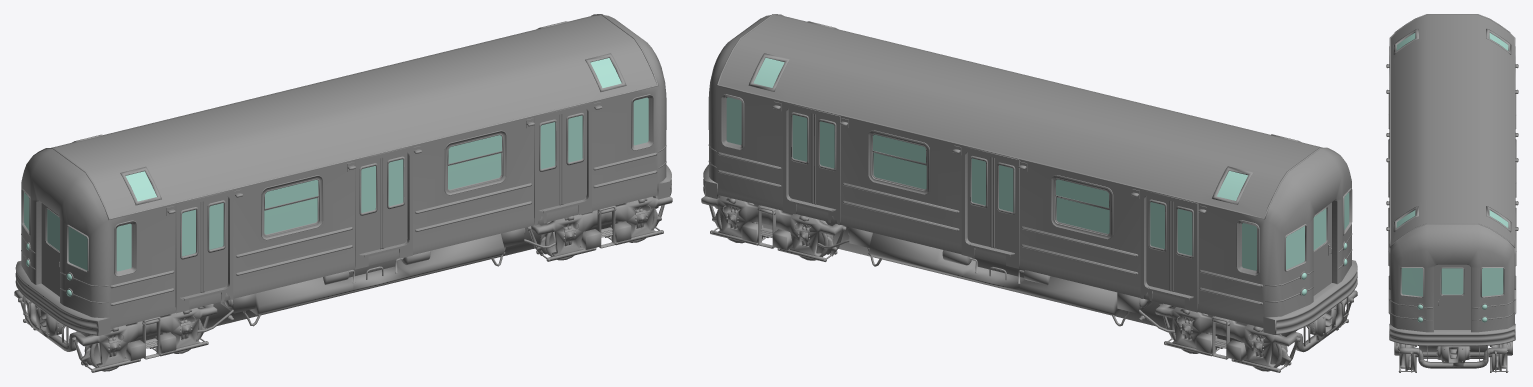
Rendered from Subway_train_car.FBX.
3 renders of one model, left to right at view 1: azimuth 30°, elevation 25°; view 2: azimuth 150°, elevation 25°; view 3: azimuth 270°, elevation 25°, orthographic. The views are drawn at different scales.
Visible parts, largest first — view 1: late_traincar_outer_side, lower_traincar_platform, Glass_Train_Car, Side_sliding_door_right_traincar_2, Side_sliding_door_right_traincar_1, Side_sliding_door_right_traincar, Side_sliding_door_left_traincar, Side_sliding_door_left_traincar_1, Side_sliding_door_left_traincar_2, Front_door_traincar, Glass_3, Glass_4 (+6 smaller); view 2: late_traincar_outer_side, lower_traincar_platform, Glass_Train_Car, Side_sliding_door_left_traincar_3, Side_sliding_door_left_traincar_4, Side_sliding_door_left_traincar_5, Side_sliding_door_right_traincar_4, Side_sliding_door_right_traincar_5, Side_sliding_door_right_traincar_3, Front_door_traincar, Glass_6, Glass_5 (+6 smaller); view 3: late_traincar_outer_side, lower_traincar_platform, Backdoor_traincar, Glass_Train_Car, Glass_2.
Part boxes in pixels (x1,y1,x2,y2): late_traincar_outer_side: [15, 14, 671, 335]; lower_traincar_platform: [14, 196, 672, 372]; Glass_Train_Car: [24, 58, 648, 296]; Side_sliding_door_right_traincar_2: [561, 108, 586, 204]; Side_sliding_door_right_traincar_1: [382, 152, 407, 248]; Side_sliding_door_right_traincar: [203, 196, 227, 292]; Side_sliding_door_left_traincar: [179, 201, 202, 297]; Side_sliding_door_left_traincar_1: [359, 158, 382, 253]; Side_sliding_door_left_traincar_2: [538, 114, 561, 210]; Front_door_traincar: [41, 203, 59, 296]; Glass_3: [265, 180, 318, 208]; Glass_4: [448, 135, 501, 163]; late_traincar_outer_side: [703, 14, 1357, 334]; lower_traincar_platform: [701, 195, 1357, 372]; Glass_Train_Car: [726, 58, 1349, 295]; Side_sliding_door_left_traincar_3: [1146, 195, 1171, 291]; Side_sliding_door_left_traincar_4: [967, 152, 992, 247]; Side_sliding_door_left_traincar_5: [788, 108, 813, 203]; Side_sliding_door_right_traincar_4: [992, 157, 1015, 252]; Side_sliding_door_right_traincar_5: [813, 114, 836, 209]; Side_sliding_door_right_traincar_3: [1171, 201, 1194, 296]; Front_door_traincar: [1313, 202, 1331, 295]; Glass_6: [873, 134, 925, 163]; Glass_5: [1056, 179, 1108, 207]; late_traincar_outer_side: [1386, 14, 1518, 346]; lower_traincar_platform: [1394, 341, 1512, 372]; Backdoor_traincar: [1434, 264, 1470, 329]; Glass_Train_Car: [1396, 33, 1508, 322]; Glass_2: [1441, 268, 1463, 294].
Size of what is drawn, in the model's own units: 1402 by 426 by 340.
